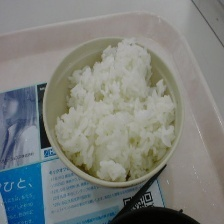rice: (54, 36, 178, 182)
